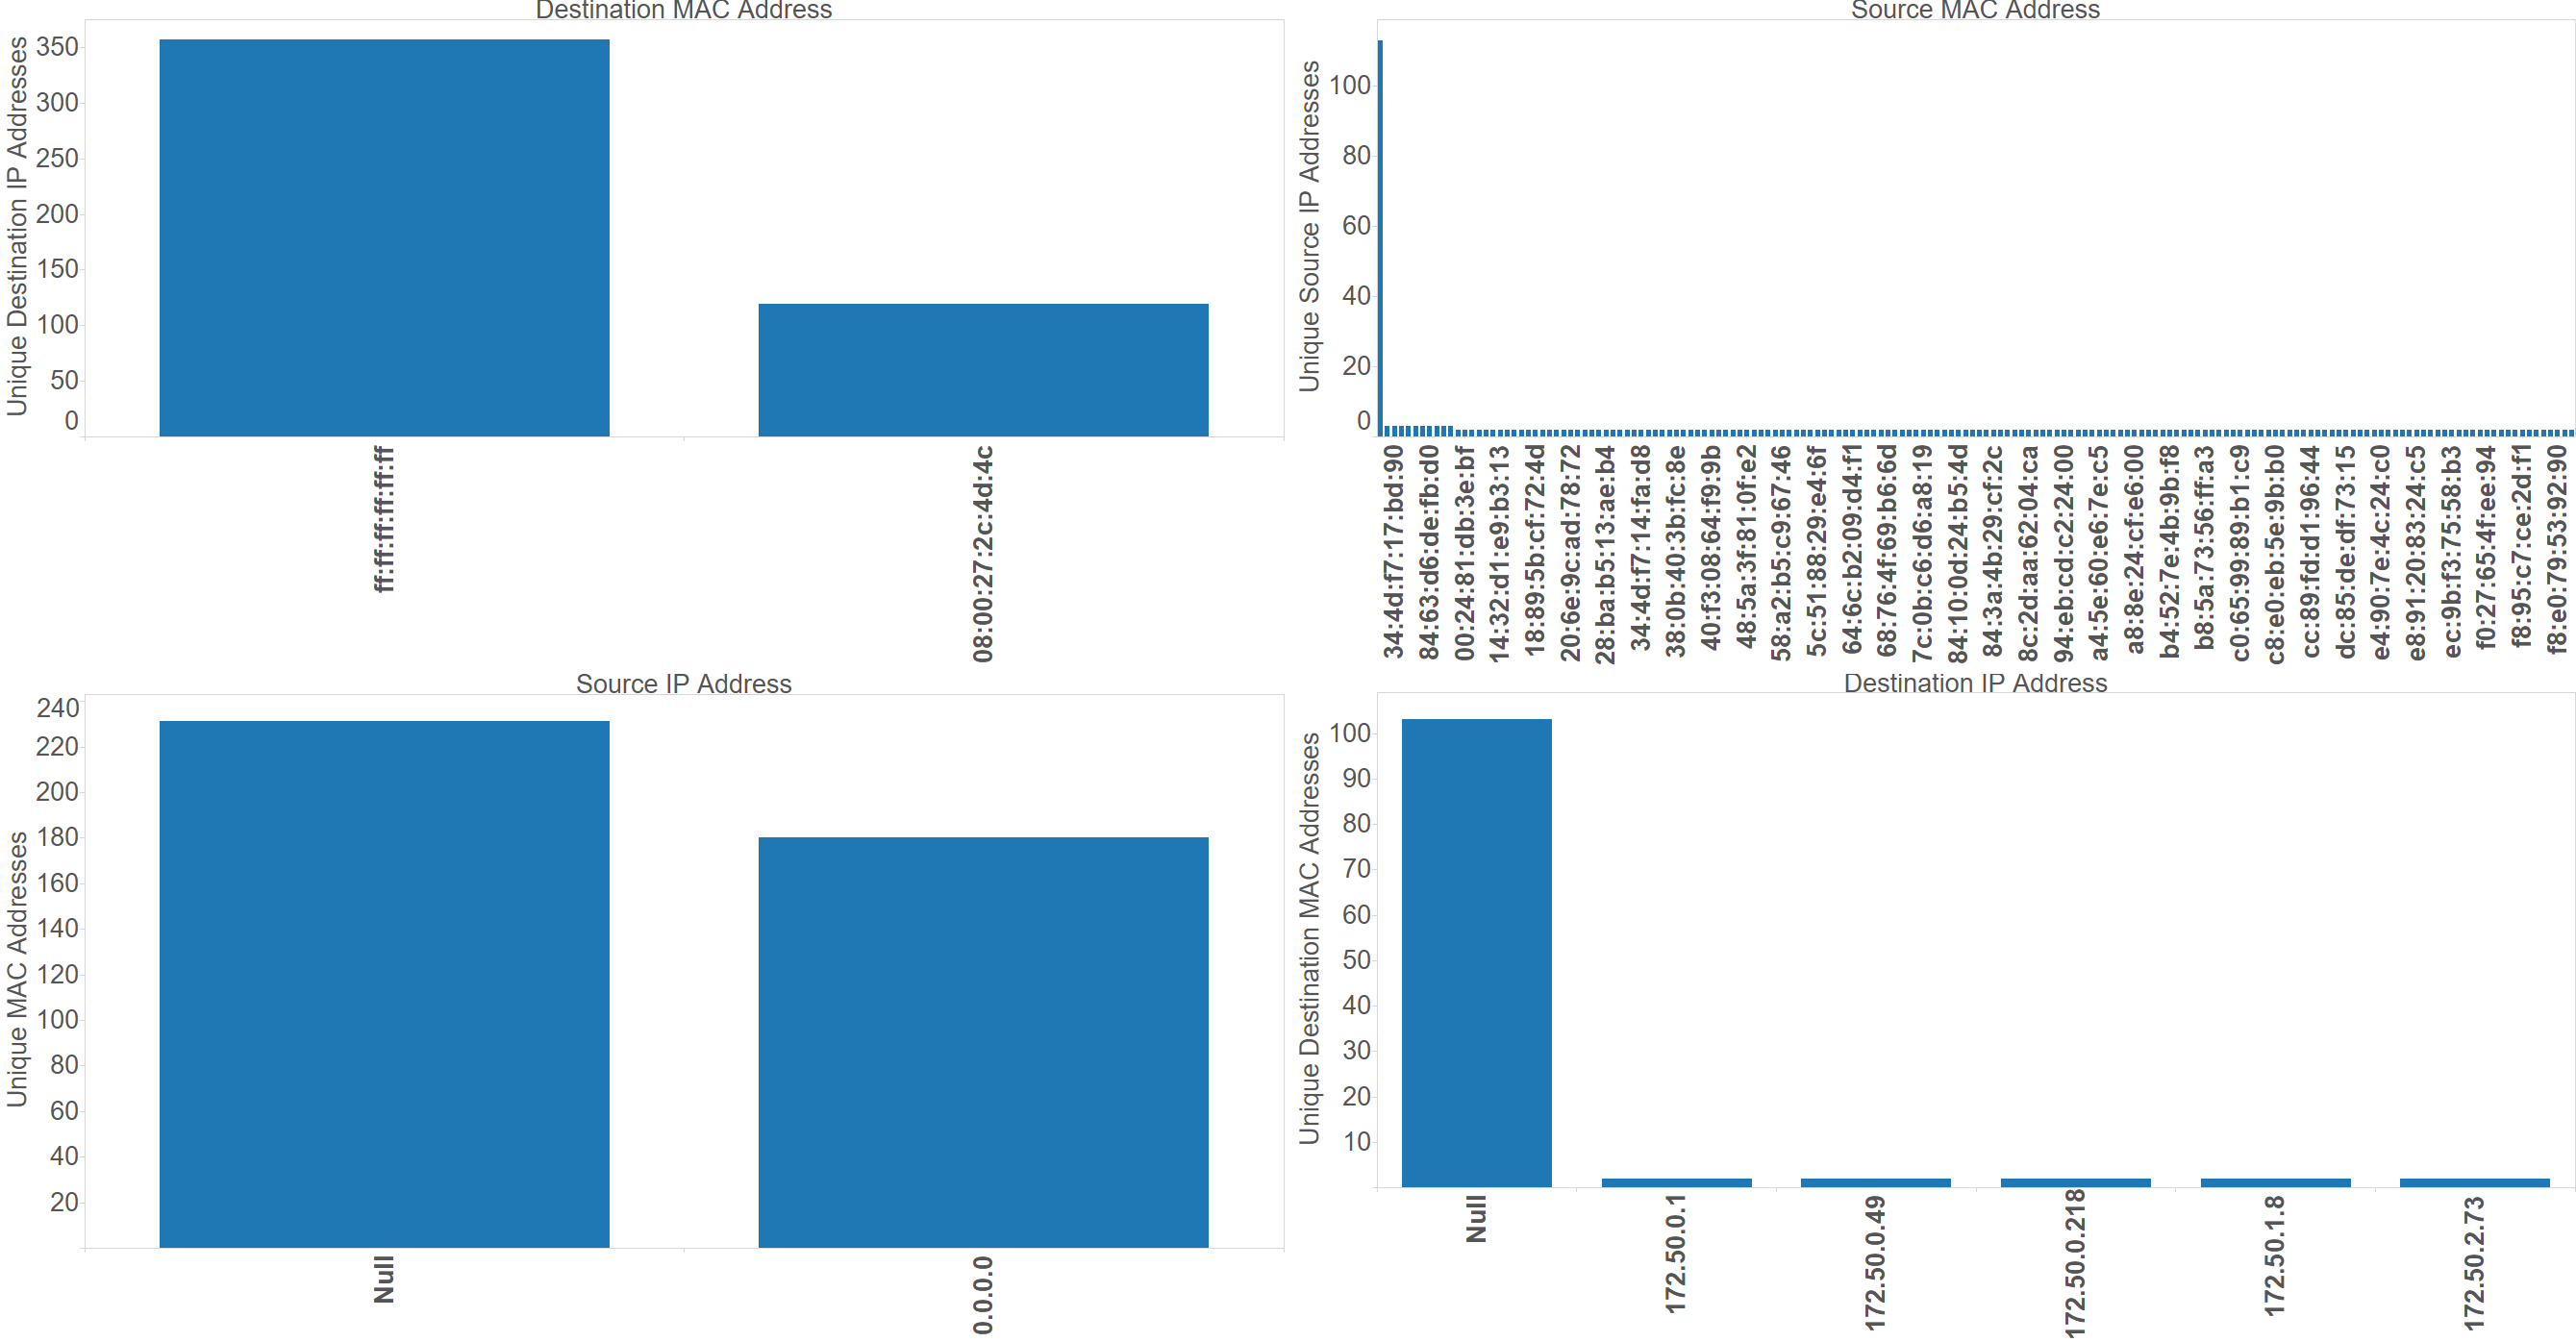

The dashboard page shown, as its layout file describes it:
{"tool":"tableau","page":{"name":"IP vs MAC Correspondence","canvas":[1000,1000],"units":"permille","ordinal":0},"visuals":[{"type":"worksheet","title":"IP Addresses per Dst MAC","mark":"Automatic","rows":["ipdst"],"cols":["hwdst"],"box":[0,0,500,500]},{"type":"worksheet","title":"IP Addresses per Src MAC","mark":"Automatic","rows":["ipsrc"],"cols":["hwsrc"],"box":[500,0,500,500]},{"type":"worksheet","title":"MAC Addresses per Src IP","mark":"Automatic","rows":["hwsrc"],"cols":["ipsrc"],"box":[0,500,500,500]},{"type":"worksheet","title":"MAC Addresses per Dst IP","mark":"Automatic","rows":["hwdst"],"cols":["ipdst"],"box":[500,500,500,500]}]}

Visuals, with their boxes on the dashboard's canvas, which has no fixed pixel size, in thousandths of its width and height (x1, y1, x2, y2). These are canvas units, not pixel positions in the 2576x1342 screenshot, which may show the page scaled, cropped or inside an application window:
"IP Addresses per Dst MAC" worksheet: region(0, 0, 500, 500)
"IP Addresses per Src MAC" worksheet: region(500, 0, 1000, 500)
"MAC Addresses per Src IP" worksheet: region(0, 500, 500, 1000)
"MAC Addresses per Dst IP" worksheet: region(500, 500, 1000, 1000)
